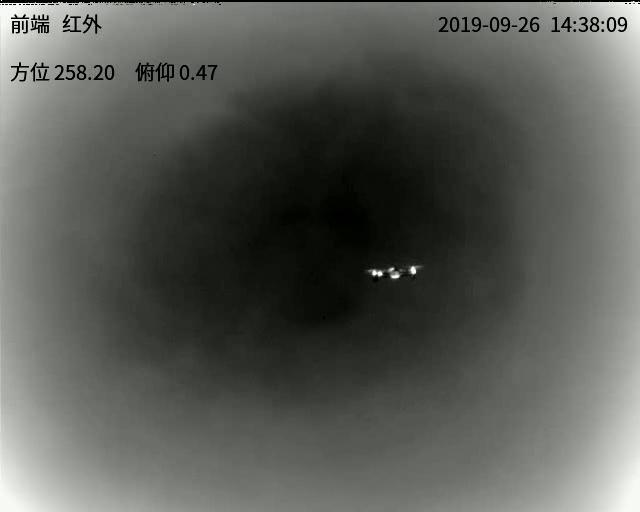DRONE: (366, 263, 420, 281)
